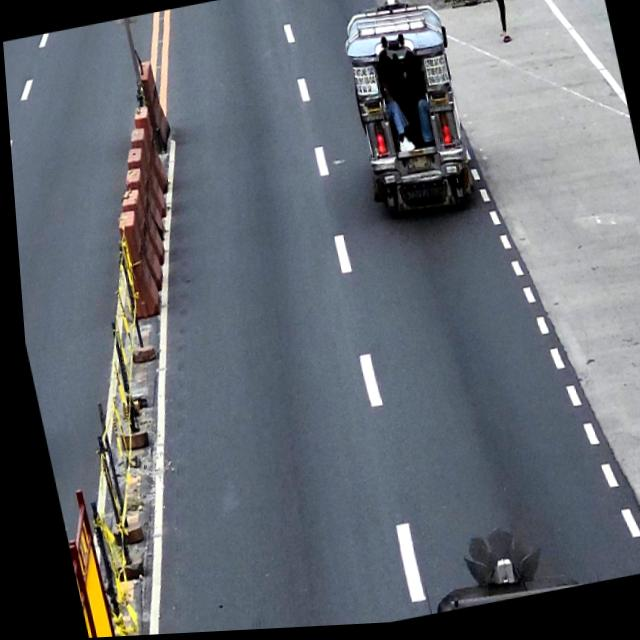Jeep: (335, 0, 481, 233)
License-Plate: (403, 157, 431, 176)
